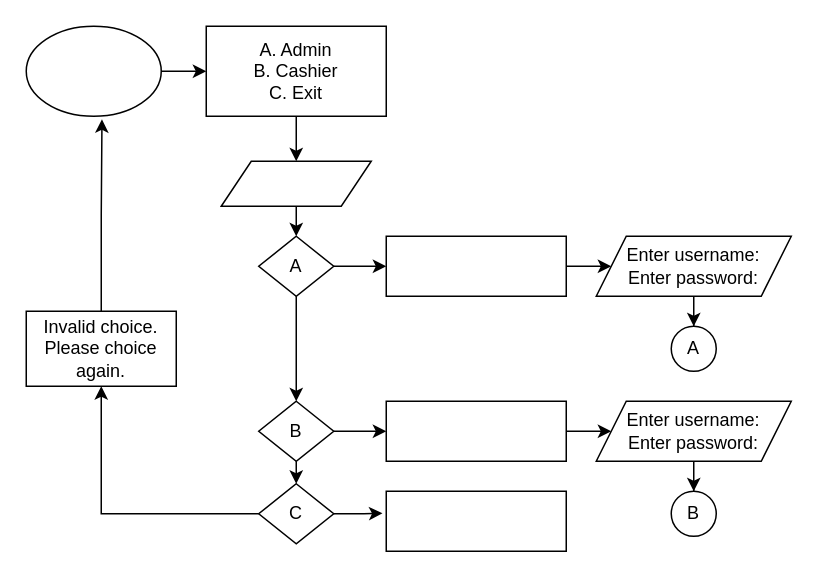
The diagram is 818 pixels wide and 578 high, and some of its shapes have lost their labels. The shapes that lost their labels are listed below. From the top down, each one's centre as x and y in pixels, then its label:
(x=93, y=70): Start
(x=295, y=183): User Input
(x=475, y=265): LogIn as Admin
(x=475, y=430): Login as Cashier
(x=475, y=520): End
